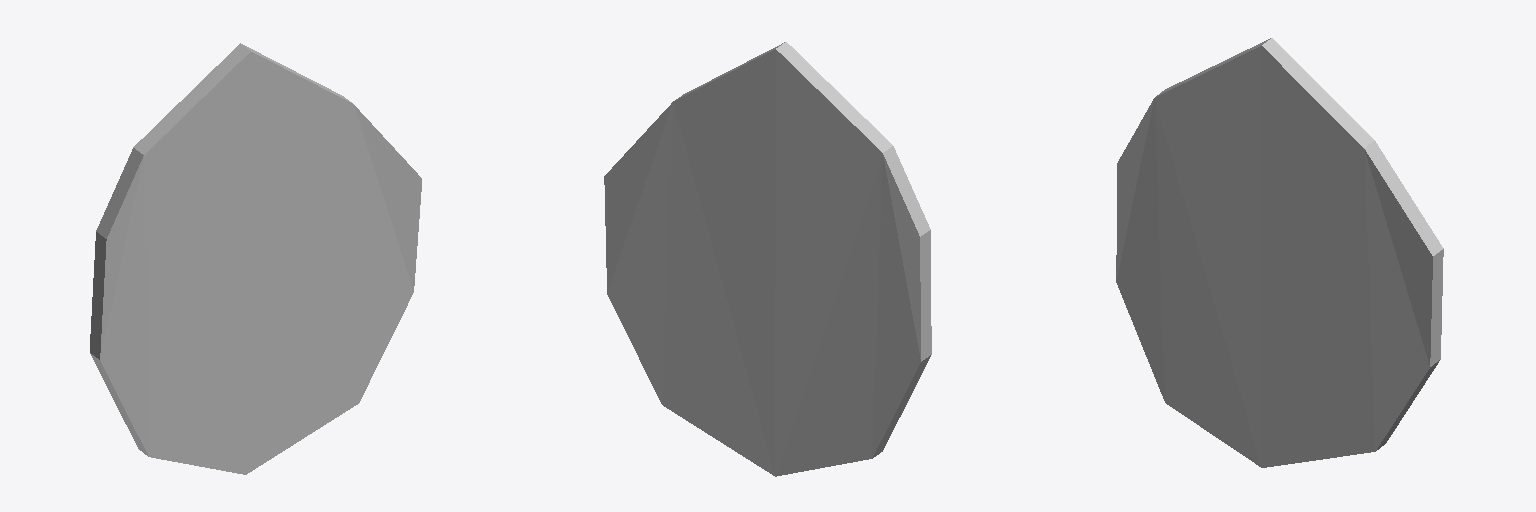
The model's file is Light.obj.
3 views of the same model, side by side, from view 1: azimuth 30°, elevation 25°; view 2: azimuth 150°, elevation 25°; view 3: azimuth 330°, elevation 25° (orthographic).
Parts seen in each view (by area): view 1: Fuego_Plane.001; view 2: Fuego_Plane.001; view 3: Fuego_Plane.001.
Part boxes in pixels (left/top/right/bottom): Fuego_Plane.001: left=90, top=43, right=421, bottom=474; Fuego_Plane.001: left=604, top=42, right=931, bottom=476; Fuego_Plane.001: left=1116, top=38, right=1443, bottom=467.
Bounding box in the file's own units: 0.5637 × 0.7173 × 0.0409.